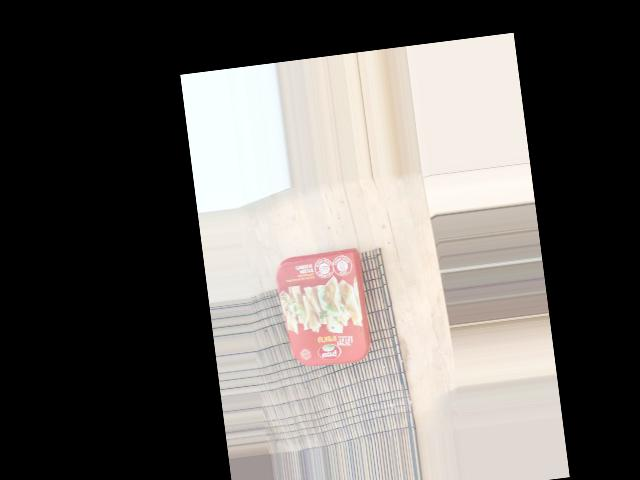cheese: (230, 330, 386, 428)
